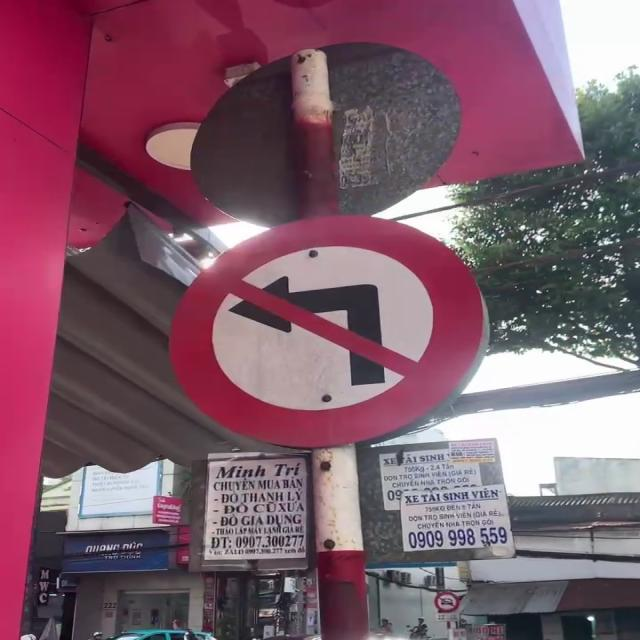Cam_Re_Trai: (167, 213, 490, 448)
